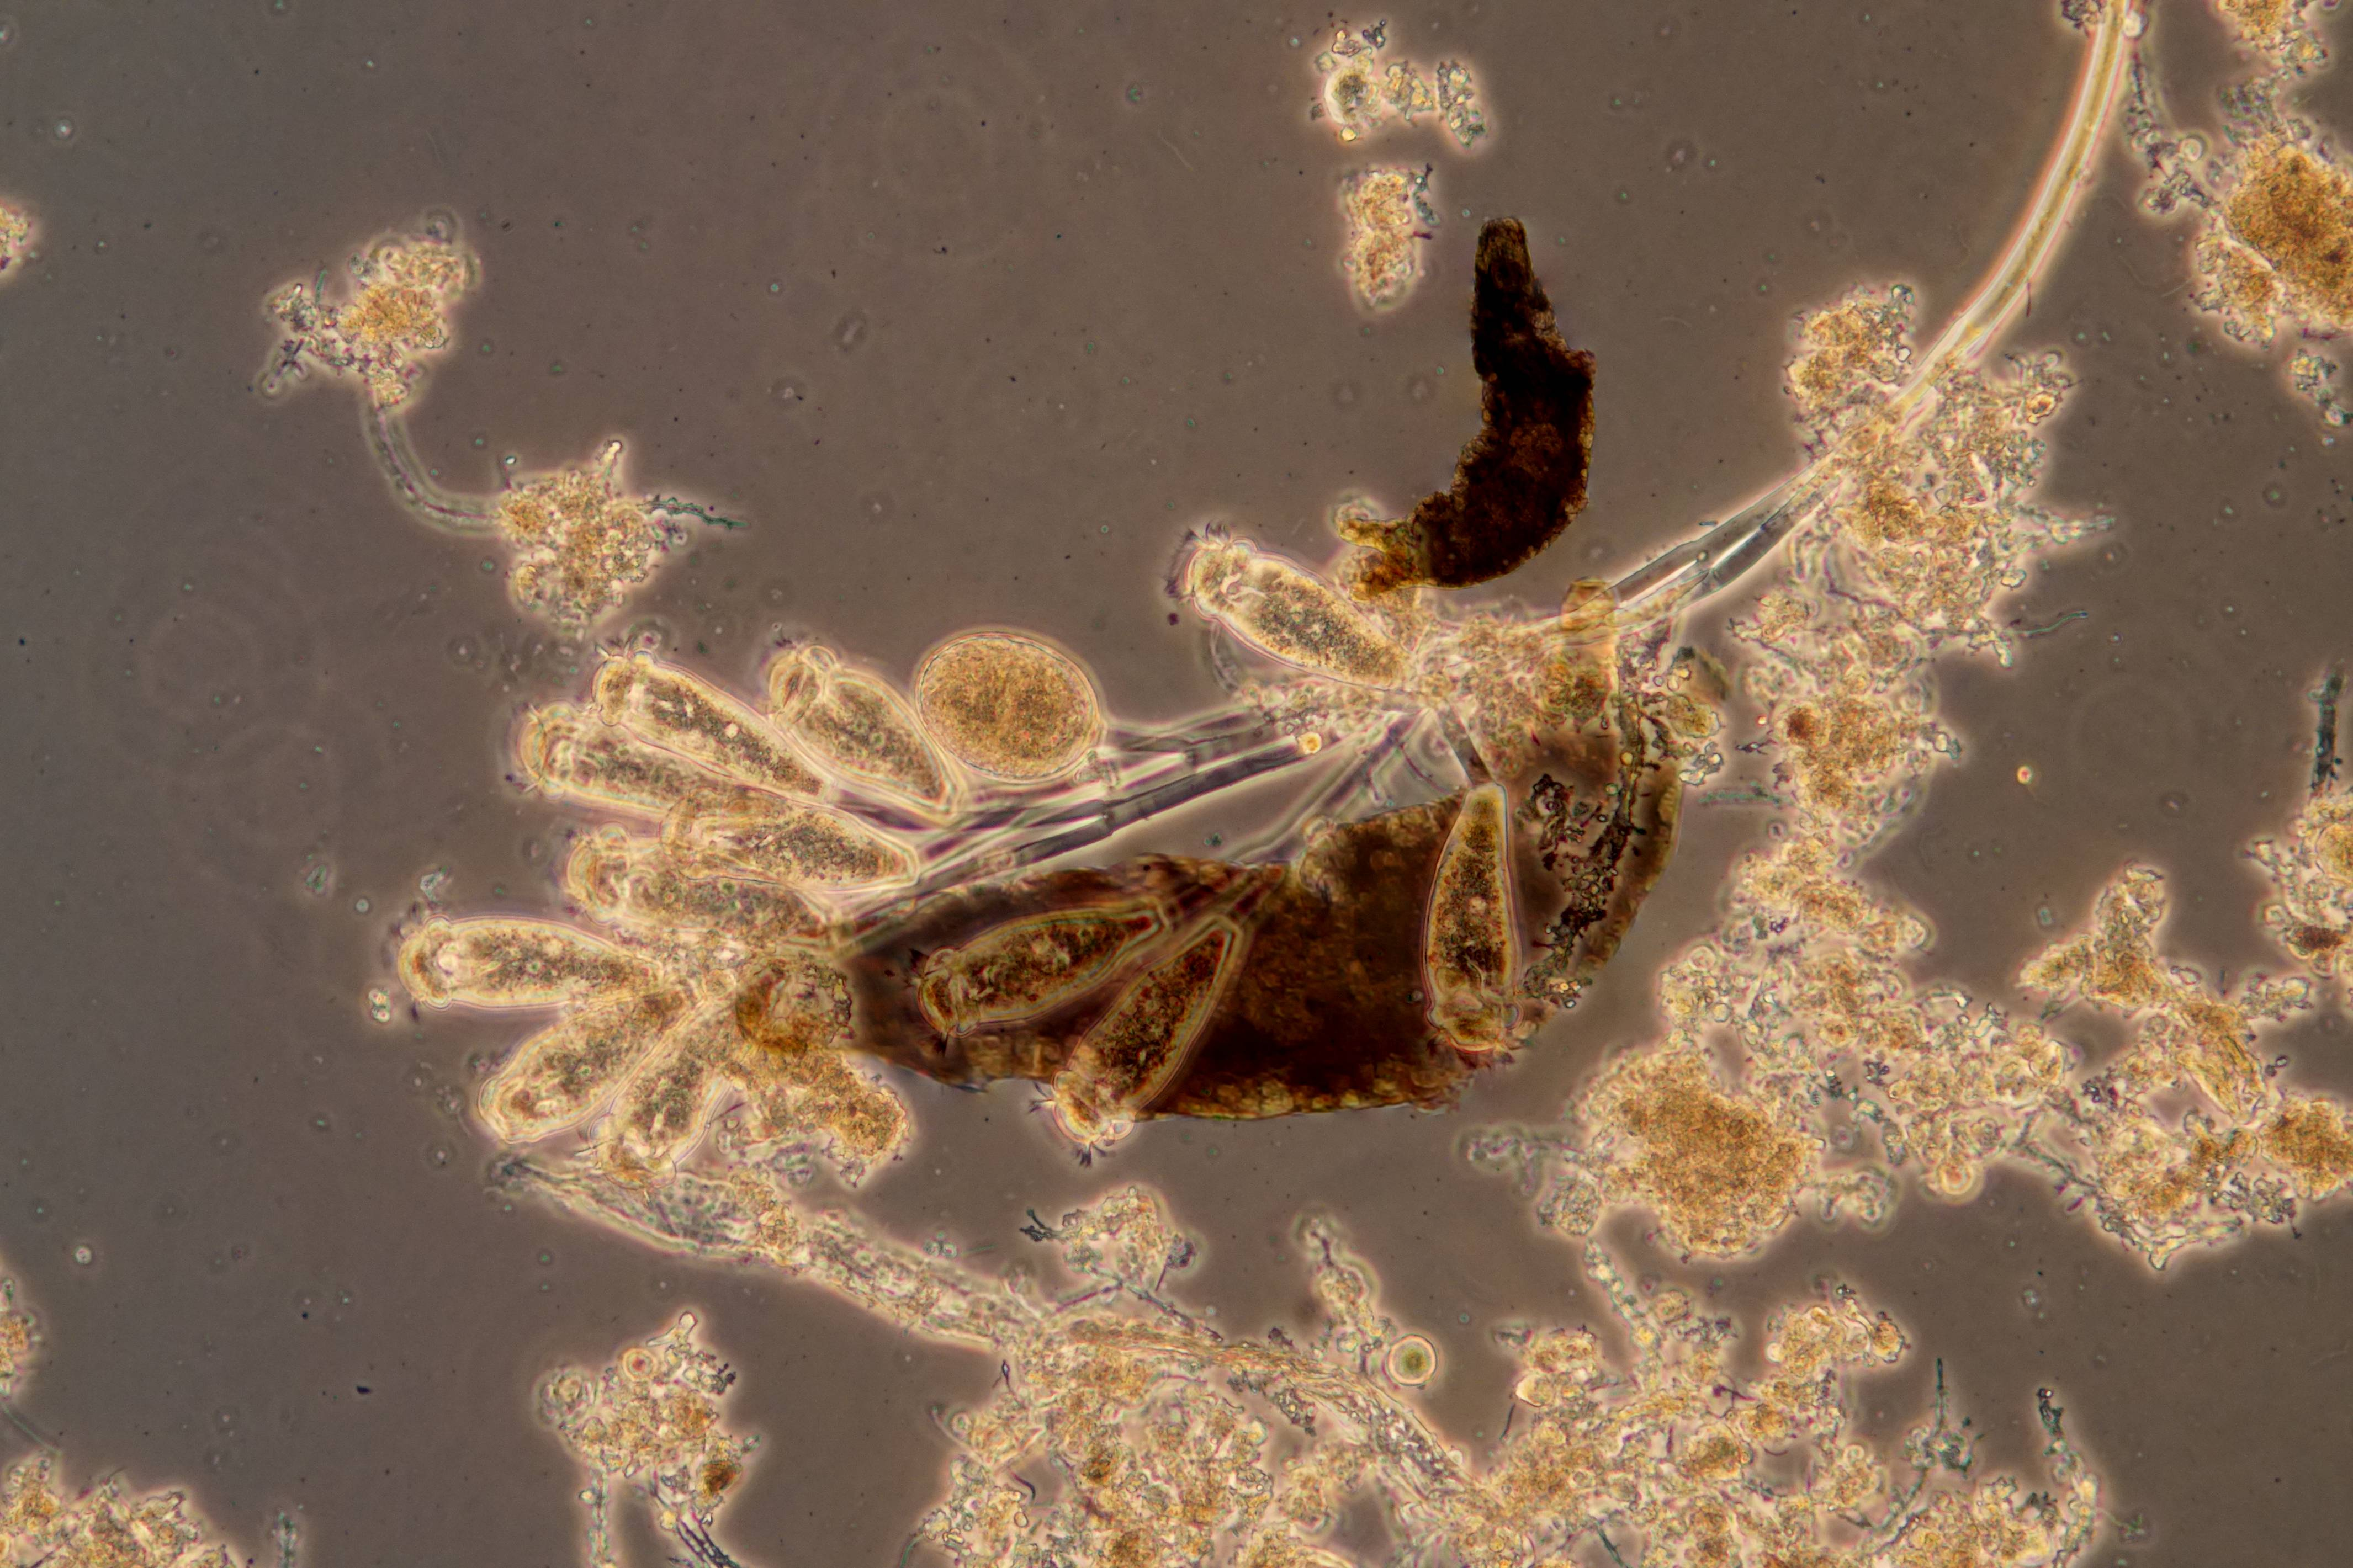Tardigrade: (732, 572, 1737, 1125), (1332, 213, 1598, 605)
